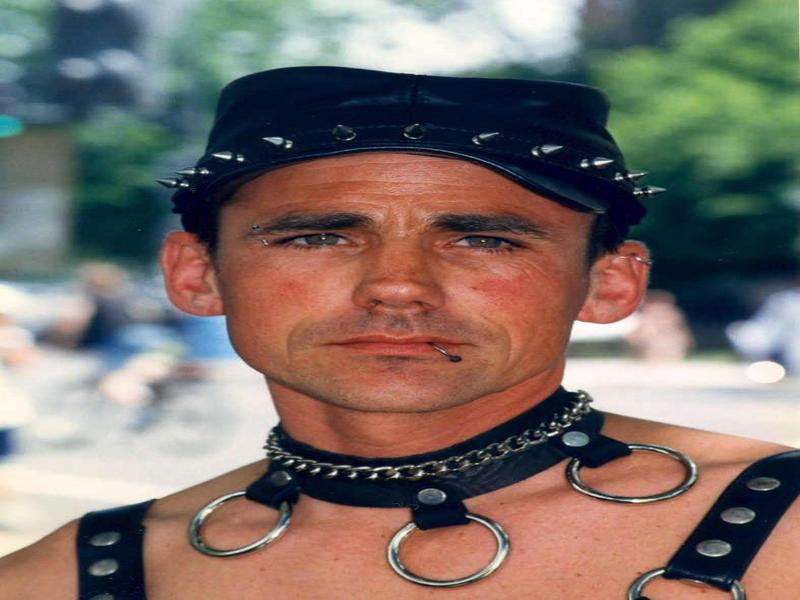person: (32, 68, 798, 600)
